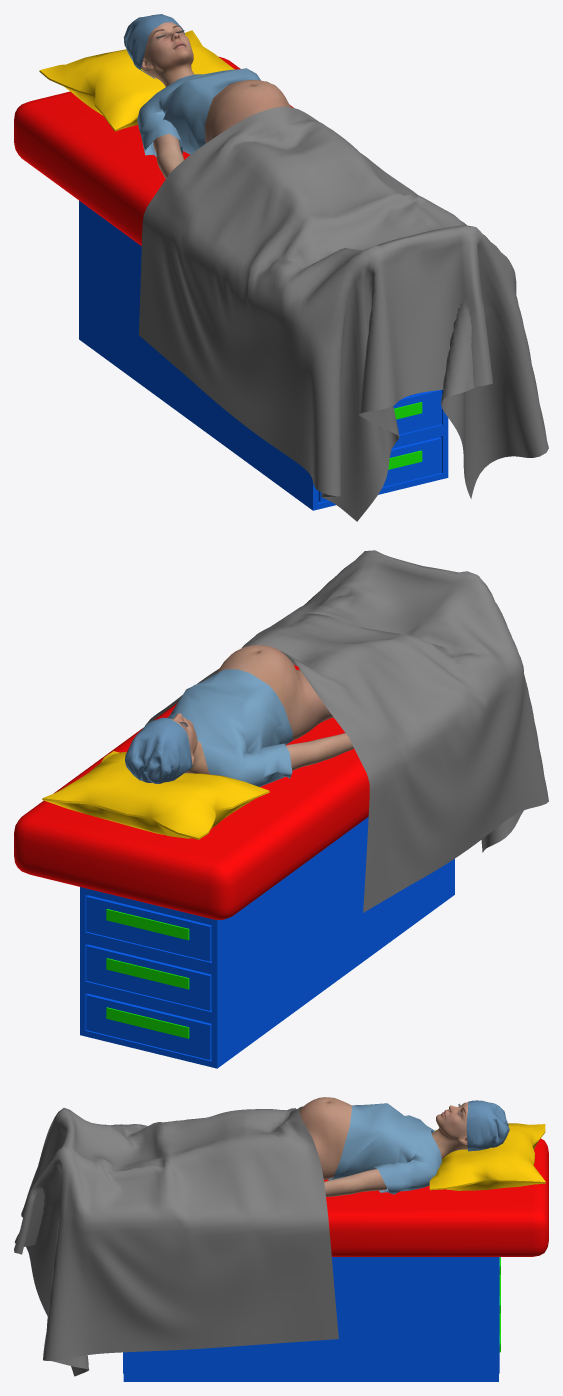
The model's file is Mother_V3.fbx.
The picture shows the model from 3 angles, top to bottom: view 1: azimuth 30°, elevation 25°; view 2: azimuth 150°, elevation 25°; view 3: azimuth 270°, elevation 25°; orthographic projection. The views are drawn at different scales.
Parts seen in each view (by area): view 1: mantitapalfrio_morpher, hospital_fnt_cama2, mama, playera, gorrito; view 2: hospital_fnt_cama2, mantitapalfrio_morpher, playera, mama, gorrito; view 3: mantitapalfrio_morpher, hospital_fnt_cama2, playera, mama, gorrito.
Part boxes in pixels (x1,y1,x2,y2): mantitapalfrio_morpher: [139, 106, 548, 521]; hospital_fnt_cama2: [14, 30, 448, 510]; mama: [141, 22, 290, 178]; playera: [137, 68, 260, 156]; gorrito: [123, 14, 184, 79]; hospital_fnt_cama2: [14, 665, 454, 1068]; mantitapalfrio_morpher: [145, 550, 548, 912]; playera: [167, 669, 293, 786]; mama: [162, 645, 353, 774]; gorrito: [125, 718, 192, 783]; mantitapalfrio_morpher: [14, 1106, 338, 1376]; hospital_fnt_cama2: [123, 1123, 548, 1381]; playera: [328, 1103, 441, 1194]; mama: [299, 1097, 468, 1196]; gorrito: [466, 1100, 509, 1151].
Bounding box in the file's own units: 87.83 × 112 × 214.
